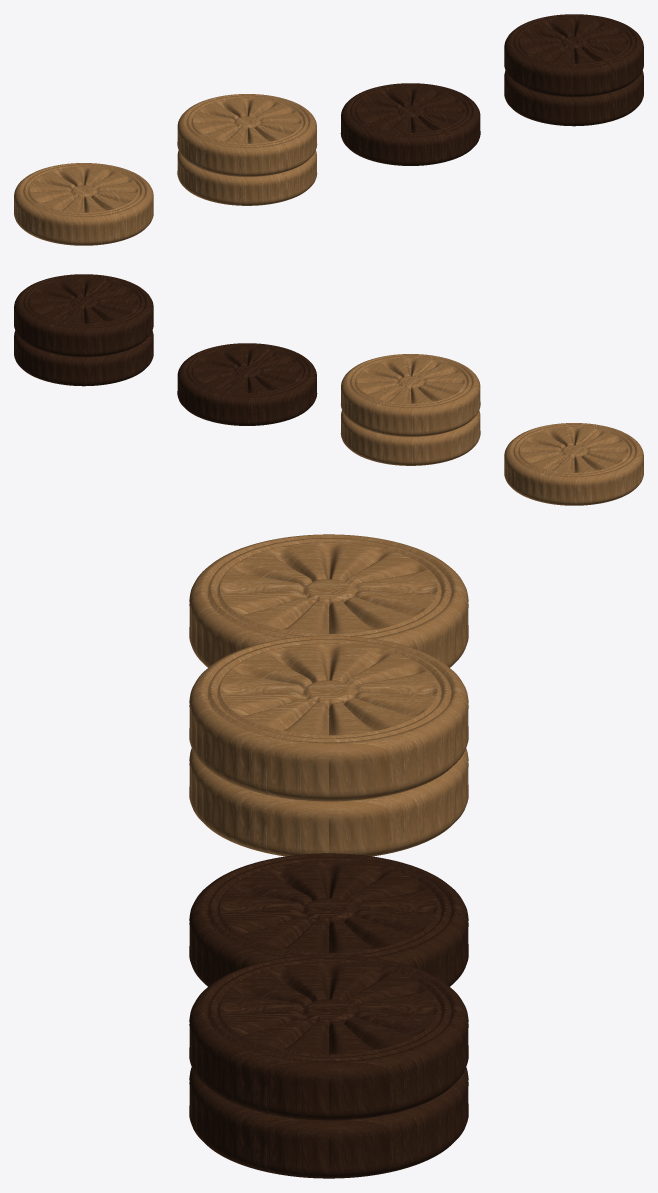
The model's file is rosette.glb.
3 renders of one model, top to bottom at view 1: azimuth 30°, elevation 25°; view 2: azimuth 150°, elevation 25°; view 3: azimuth 270°, elevation 25°, orthographic. The views are drawn at different scales.
Visible parts, largest first — view 1: dark_king counter 2, dark_man counter 1, light_man counter 1, light_king counter 2, light_king counter 1, dark_king counter 1; view 2: dark_king counter 2, dark_man counter 1, light_man counter 1, light_king counter 2, light_king counter 1, dark_king counter 1; view 3: light_king counter 2, dark_king counter 2, dark_man counter 1, light_man counter 1, dark_king counter 1, light_king counter 1.
Part boxes in pixels (bbox=[...]): dark_king counter 2: bbox=[504, 14, 643, 96]; dark_man counter 1: bbox=[340, 83, 480, 165]; light_man counter 1: bbox=[14, 163, 153, 245]; light_king counter 2: bbox=[177, 94, 317, 176]; light_king counter 1: bbox=[177, 150, 317, 205]; dark_king counter 1: bbox=[504, 70, 643, 126]; dark_king counter 2: bbox=[14, 274, 153, 356]; dark_man counter 1: bbox=[177, 343, 317, 425]; light_man counter 1: bbox=[504, 423, 643, 505]; light_king counter 2: bbox=[340, 354, 480, 436]; light_king counter 1: bbox=[340, 410, 480, 465]; dark_king counter 1: bbox=[14, 330, 153, 386]; light_king counter 2: bbox=[189, 635, 468, 801]; dark_king counter 2: bbox=[189, 954, 468, 1120]; dark_man counter 1: bbox=[189, 853, 468, 986]; light_man counter 1: bbox=[189, 534, 468, 667]; dark_king counter 1: bbox=[189, 1067, 468, 1178]; light_king counter 1: bbox=[189, 748, 468, 856].
Bounding box in the file's own units: 0.202 × 0.0182 × 0.04.
2 materials, 2 textured.
